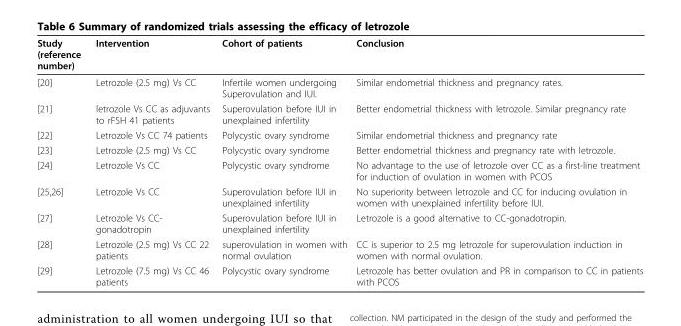table: (36, 36, 642, 287)
table column: (351, 36, 642, 287), (215, 36, 351, 287), (87, 36, 215, 287), (36, 36, 87, 287)
table column header: (36, 36, 642, 73)
table row: (36, 36, 642, 73), (36, 73, 642, 100), (36, 100, 642, 127), (36, 209, 642, 236), (36, 157, 642, 183), (36, 183, 642, 209), (36, 236, 642, 262), (36, 262, 642, 287), (36, 127, 642, 142), (36, 142, 642, 157)
